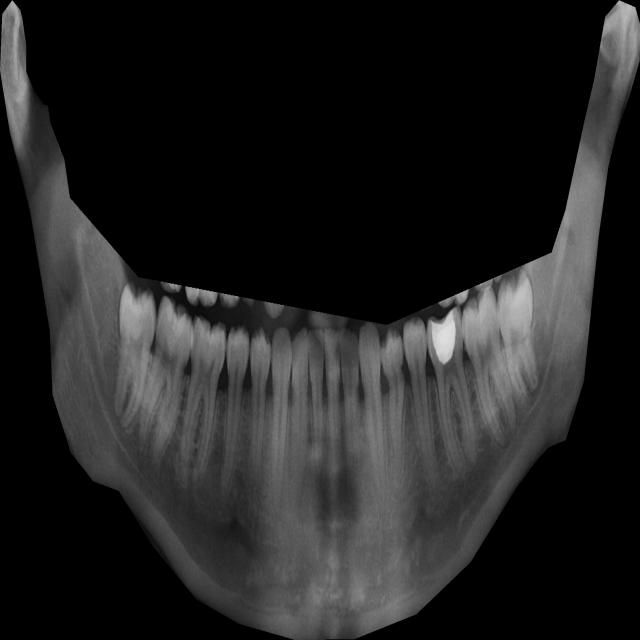mandibula: (0, 0, 640, 640)
